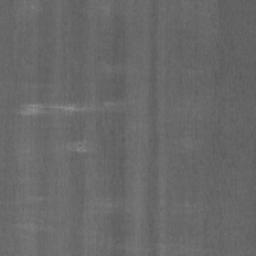Waist folding: (0, 99, 119, 117), (0, 222, 55, 232), (81, 202, 112, 208), (69, 146, 88, 154), (120, 248, 150, 253), (155, 242, 185, 246)
